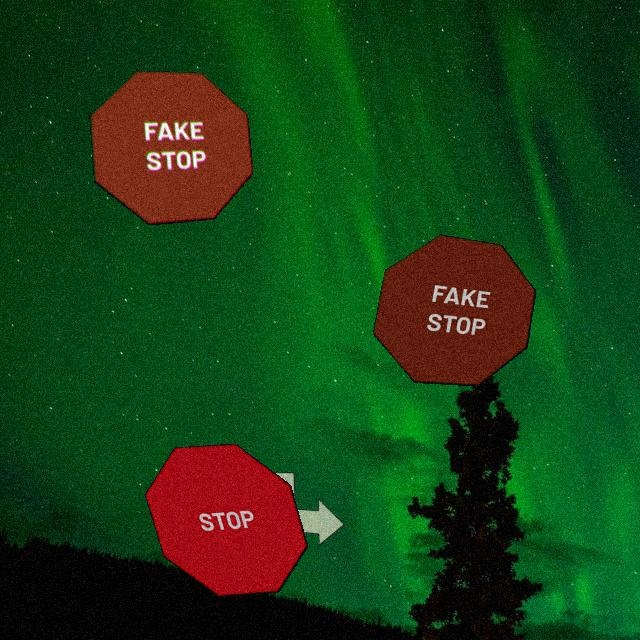FAKE_STOP: (89, 70, 253, 225), (372, 234, 536, 386)
GO_AROUND: (181, 470, 345, 566)
STOP: (144, 443, 308, 597)
